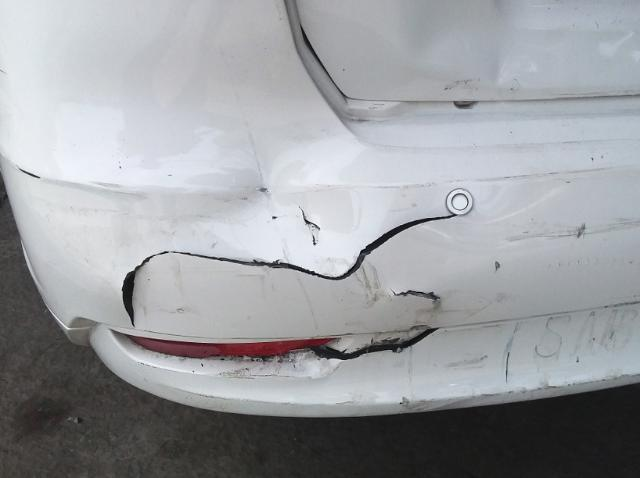Bumper: (8, 160, 526, 400)
